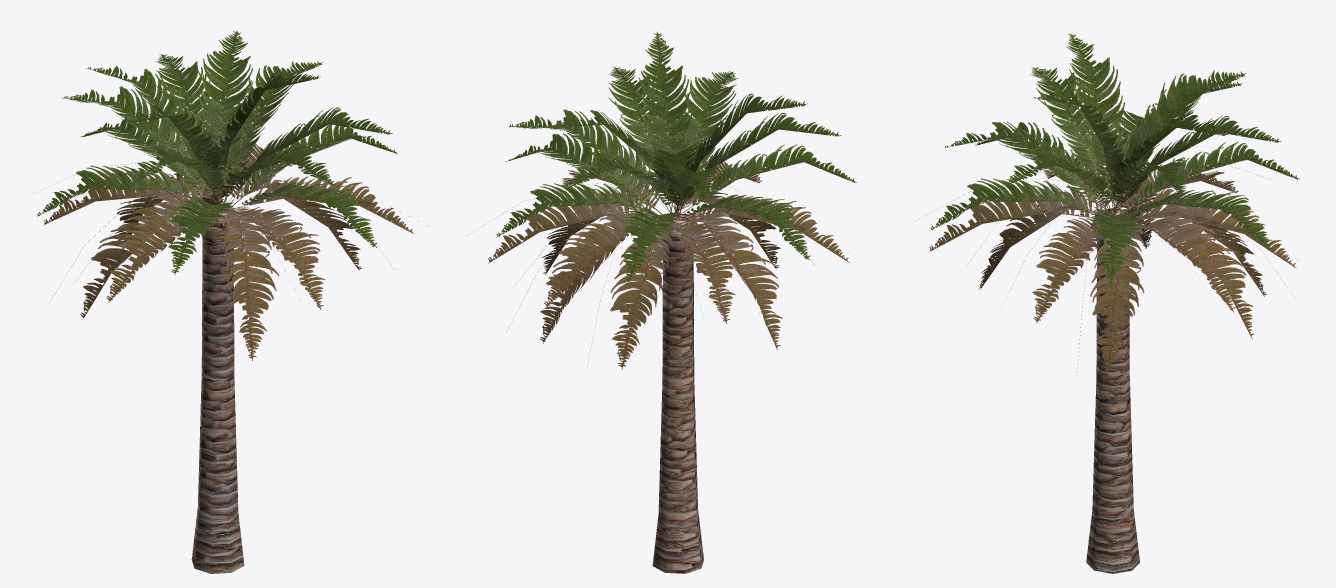
File: palme_phoenix.glb
3 views of the same model, side by side, from view 1: azimuth 30°, elevation 25°; view 2: azimuth 150°, elevation 25°; view 3: azimuth 270°, elevation 25° (orthographic). The views are drawn at different scales.
Visible parts, largest first — view 1: PhoenixPalm_d.010; view 2: PhoenixPalm_d.010; view 3: PhoenixPalm_d.010.
Boxes of the visible parts, <box> form: PhoenixPalm_d.010: <box>34,30,418,573</box>; PhoenixPalm_d.010: <box>467,32,856,573</box>; PhoenixPalm_d.010: <box>912,33,1299,573</box>.
Size of the model in its own units: 989 by 1327 by 980.
Materials: 2 (2 with a texture image).
